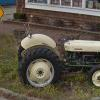Tractor: (16, 19, 100, 89)
